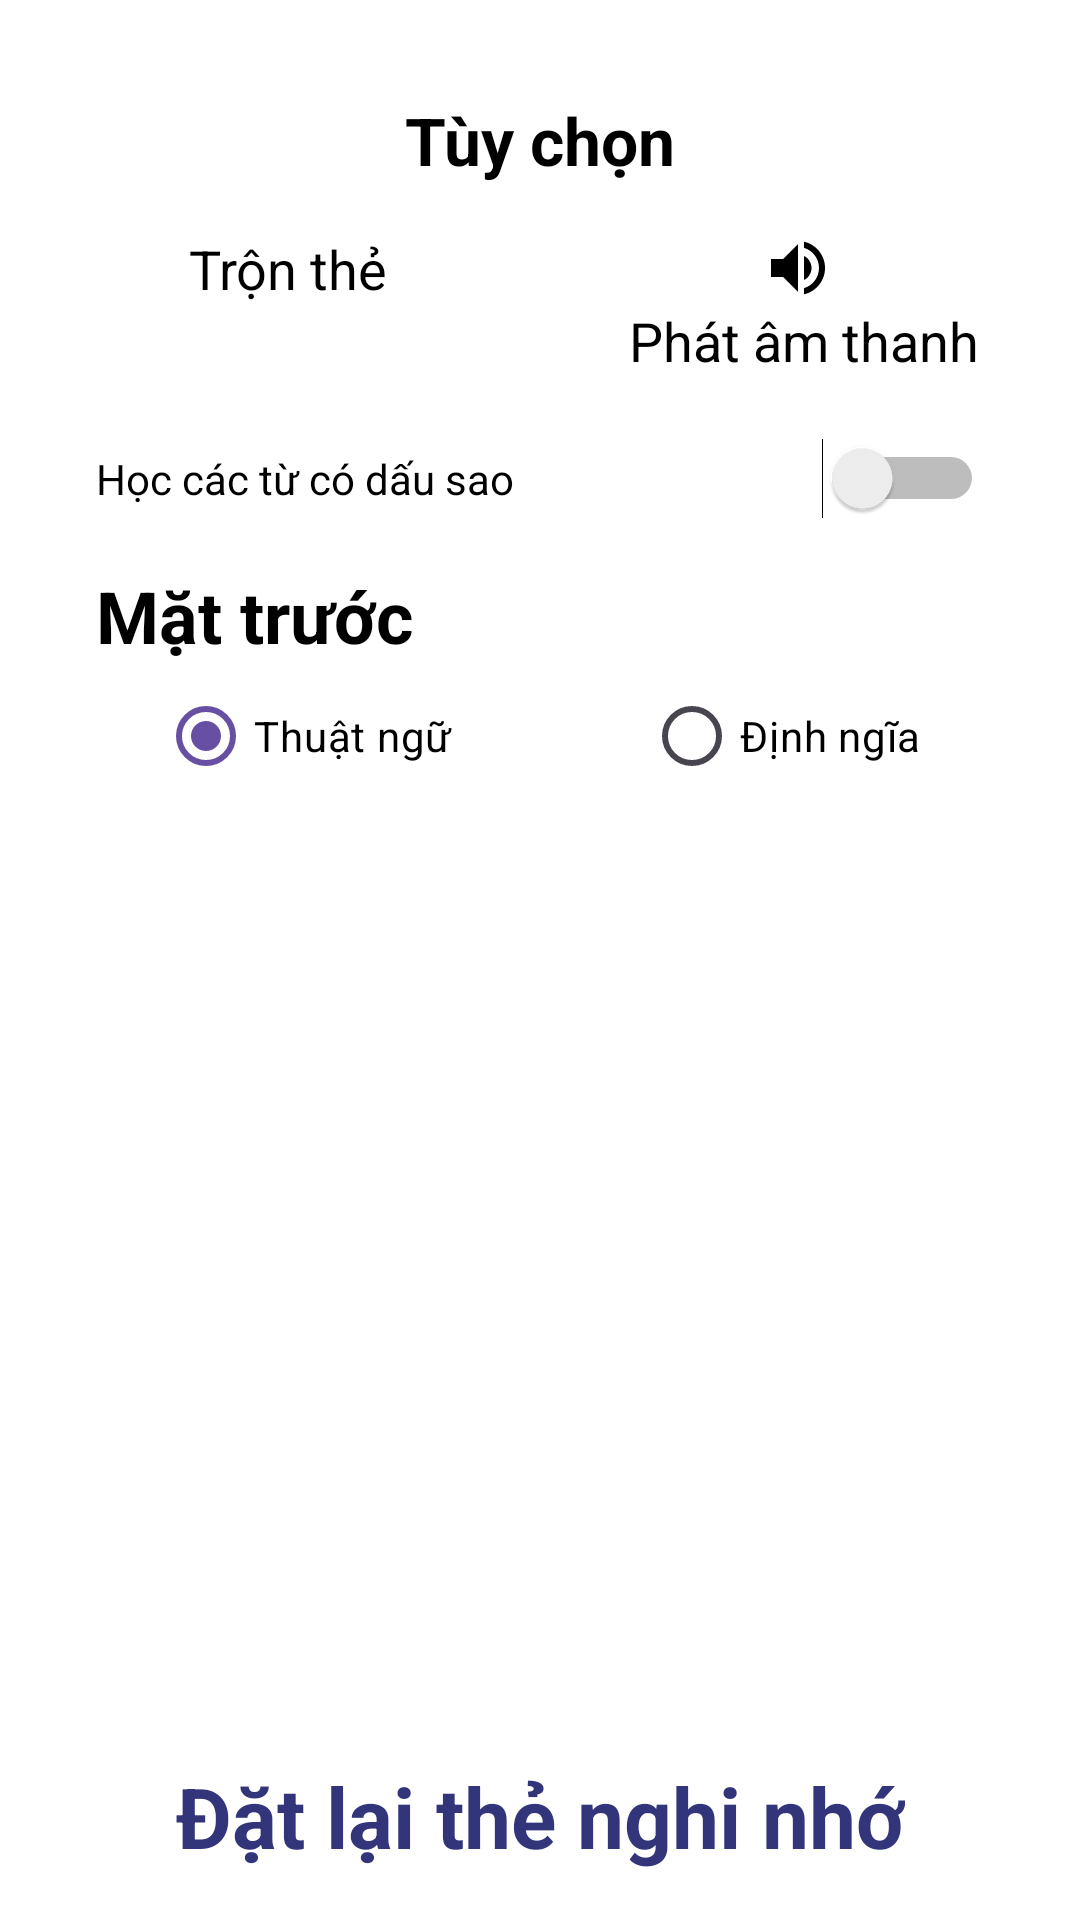

Named icons in this screenshot (1080*1920) and their bounding boxes, detection(x1, y1, x2, y2):
volume up: detection(771, 241, 825, 295)
